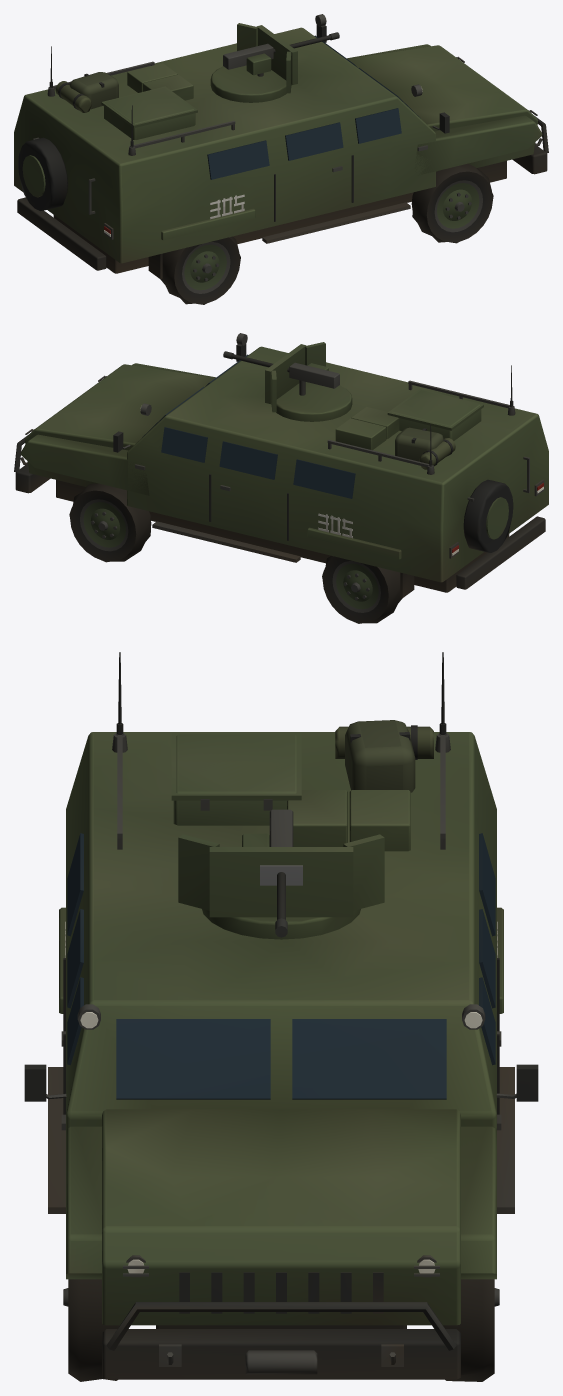
File: tigr.glb
3 views of the same model, one above another, from view 1: azimuth 30°, elevation 25°; view 2: azimuth 150°, elevation 25°; view 3: azimuth 270°, elevation 25° (orthographic). The views are drawn at different scales.
Visible parts, largest first — view 1: hull, wheel_R0, wheel_R1, turret, gun; view 2: hull, wheel_L0, turret, wheel_L1, gun; view 3: hull, turret, wheel_L0, wheel_R0, gun.
Boxes of the visible parts, left/top/right/bottom form: hull: left=14, top=14, right=548, bottom=279; wheel_R0: left=411, top=163, right=493, bottom=243; wheel_R1: left=160, top=236, right=240, bottom=304; turret: left=210, top=23, right=297, bottom=102; gun: left=223, top=32, right=339, bottom=75; hull: left=14, top=333, right=548, bottom=598; wheel_L0: left=69, top=483, right=151, bottom=562; turret: left=265, top=342, right=352, bottom=421; wheel_L1: left=322, top=556, right=402, bottom=623; gun: left=223, top=351, right=339, bottom=388; hull: left=24, top=652, right=538, bottom=1379; turret: left=178, top=834, right=384, bottom=939; wheel_L0: left=443, top=1279, right=499, bottom=1381; wheel_R0: left=63, top=1279, right=119, bottom=1381; gun: left=242, top=809, right=293, bottom=937.
Bounding box in the file's own units: 5.99 × 2.55 × 2.86.
